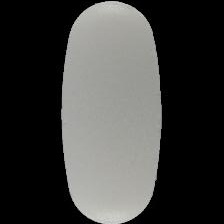68788-9397: (0, 0, 224, 224)
